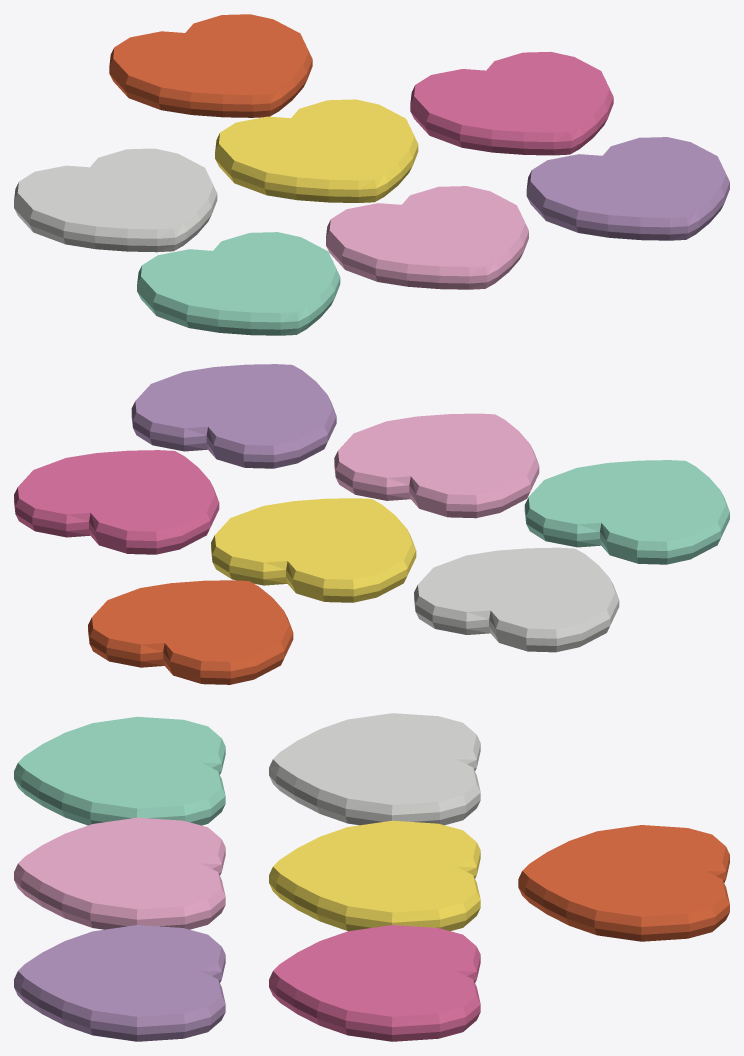
The model's file is 405ba0cc-bbc2-4afa-8c33-06147954cb9a.glb.
The picture shows the model from 3 angles, top to bottom: view 1: azimuth 30°, elevation 25°; view 2: azimuth 150°, elevation 25°; view 3: azimuth 270°, elevation 25°; orthographic projection. The views are drawn at different scales.
Visible parts, largest first — view 1: Node; view 2: Node; view 3: Node.
Boxes of the visible parts, x1=… form: Node: x1=14, y1=14, x2=729, y2=335; Node: x1=14, y1=364, x2=729, y2=684; Node: x1=14, y1=713, x2=729, y2=1041.
Bounding box in the file's own units: 4.19 × 0.1588 × 4.12.
